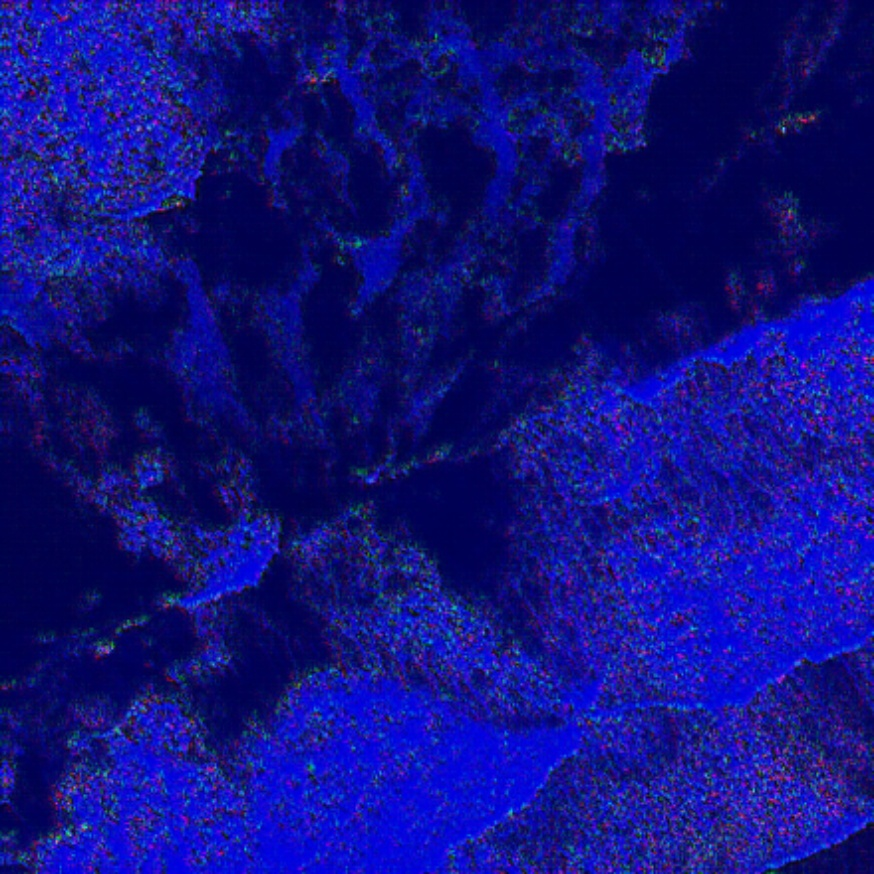rip_current: (344, 409, 713, 776)
